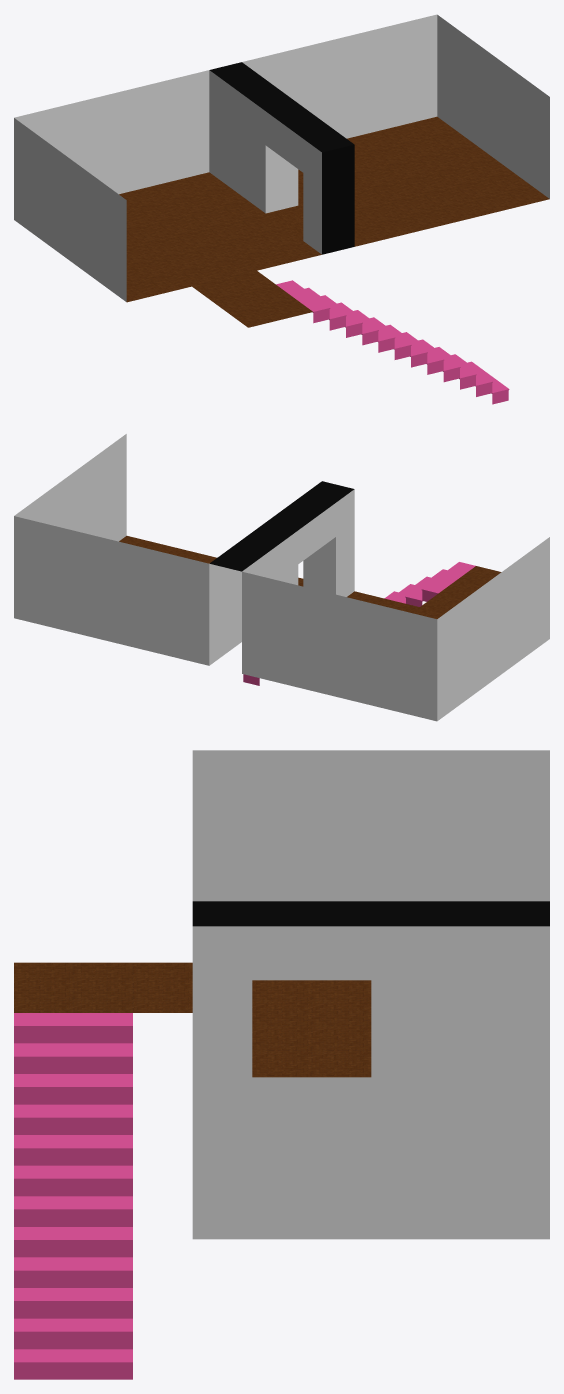
Rendered from house_floor_2.fbx.
The picture shows the model from 3 angles, top to bottom: view 1: azimuth 30°, elevation 25°; view 2: azimuth 150°, elevation 25°; view 3: azimuth 270°, elevation 25°; orthographic projection. The views are drawn at different scales.
Visible parts, largest first — view 1: floor2_room1_walls-col, floor2_room2_walls-col, floor2_room2_floor-col, floor2_room1_floor-col, floor2_interior-col, Stairs.002; view 2: floor2_room1_walls-col, floor2_room2_walls-col, floor2_interior-col, Stairs.002, floor2_room2_floor-col, floor2_room1_floor-col; view 3: floor2_room2_walls-col, floor2_room1_walls-col, Stairs.002, floor2_interior-col, floor2_room1_floor-col.
Part boxes in pixels (x1,y1,x2,y2): floor2_room1_walls-col: [14, 70, 321, 301]; floor2_room2_walls-col: [242, 14, 549, 198]; floor2_room2_floor-col: [298, 116, 549, 246]; floor2_room1_floor-col: [119, 172, 321, 302]; floor2_interior-col: [192, 62, 354, 327]; Stairs.002: [276, 280, 509, 404]; floor2_room1_walls-col: [242, 489, 549, 721]; floor2_room2_walls-col: [14, 434, 241, 665]; floor2_interior-col: [210, 481, 501, 613]; Stairs.002: [243, 562, 475, 685]; floor2_room2_floor-col: [119, 536, 303, 586]; floor2_room1_floor-col: [347, 591, 444, 618]; floor2_room2_walls-col: [192, 926, 549, 1239]; floor2_room1_walls-col: [192, 750, 549, 901]; Stairs.002: [14, 1013, 132, 1379]; floor2_interior-col: [14, 901, 549, 1077]; floor2_room1_floor-col: [252, 980, 371, 1063].
Size of what is drawn, in the model's own units: 416 by 224 by 288.
